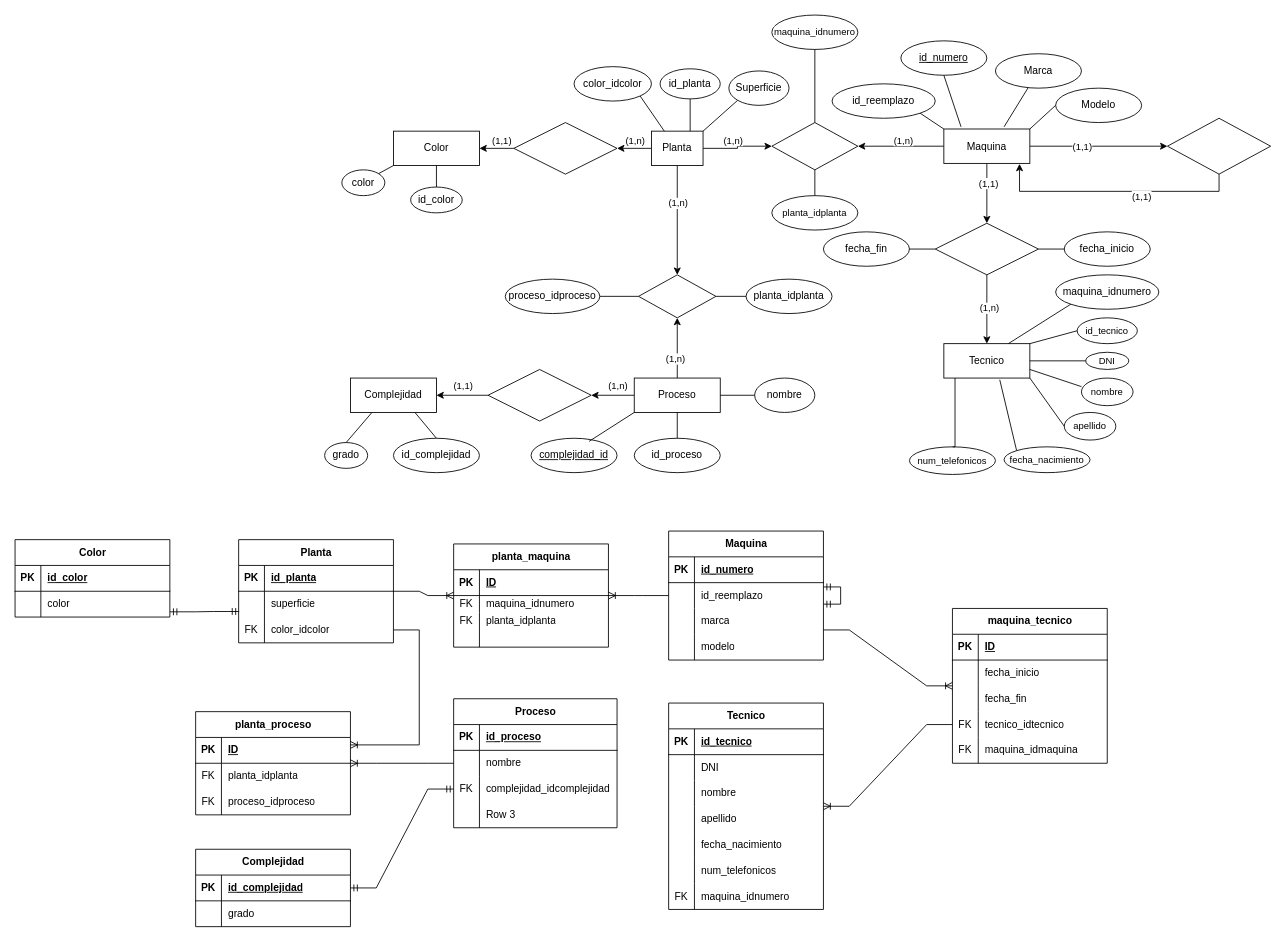
This 1286x942 diagram has some shape labels left out. The shapes that lost their labels are listed below. From the top down, each one's centre as x and y in pixels, then its label:
At (565,148): "identificada por".
At (814,146): "Se encuentran".
At (1219,145): "es reemplazada por".
At (986,248): "es operada por".
At (677,296): "consta de".
At (539,395): "tiene un grado de".
